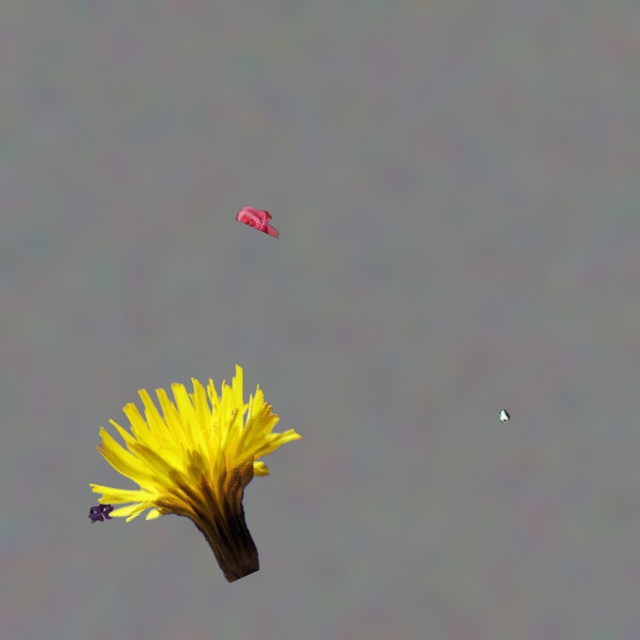butterfly flower: (88, 499, 115, 522)
dandelion: (89, 364, 301, 582)
jasmine: (499, 410, 510, 422)
rose: (236, 206, 278, 237)
